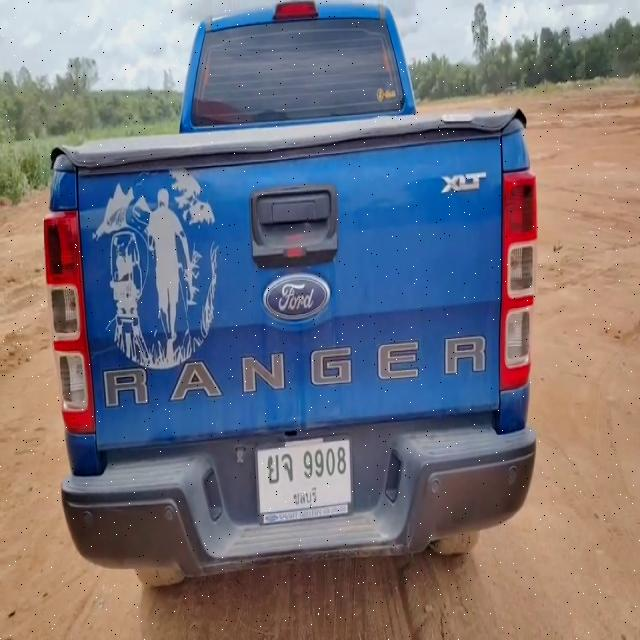Digit: (303, 445, 347, 479)
Licenseplate: (255, 442, 355, 520)
Provincename: (293, 485, 317, 509)
Thaichar: (268, 453, 293, 486)
